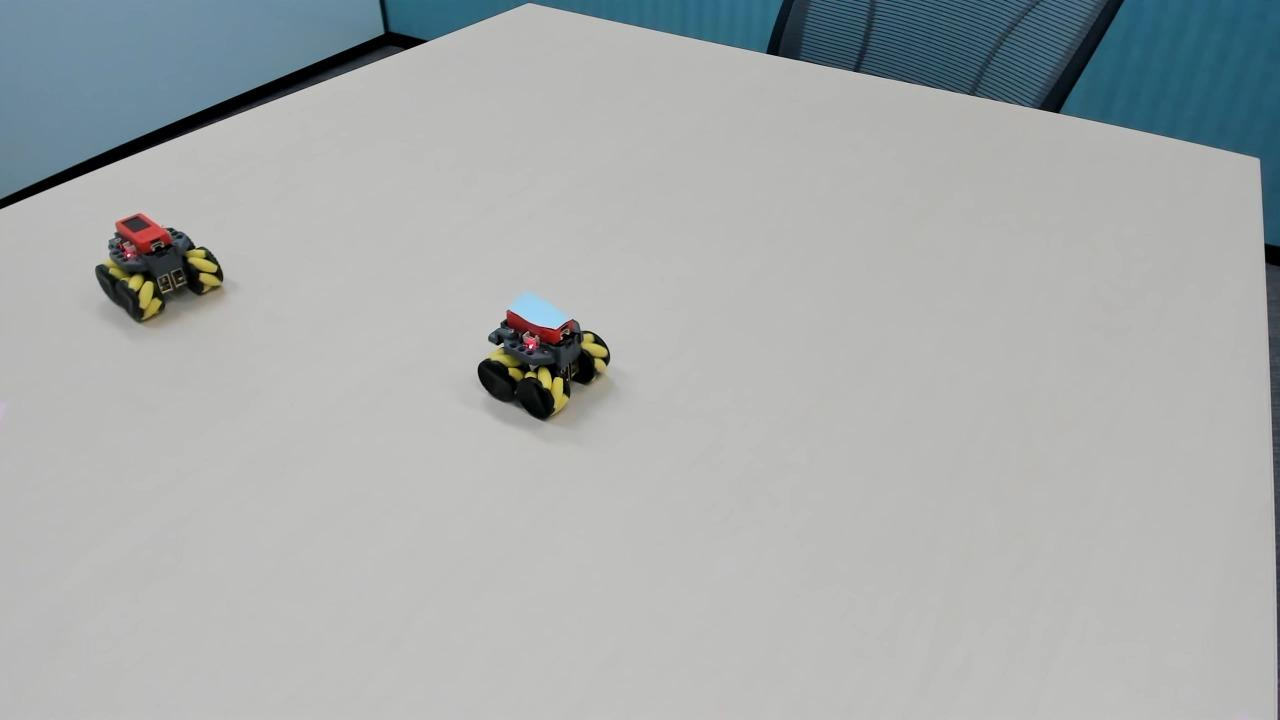B-Robot: (470, 279, 626, 438)
R-Robot: (79, 205, 241, 339)
